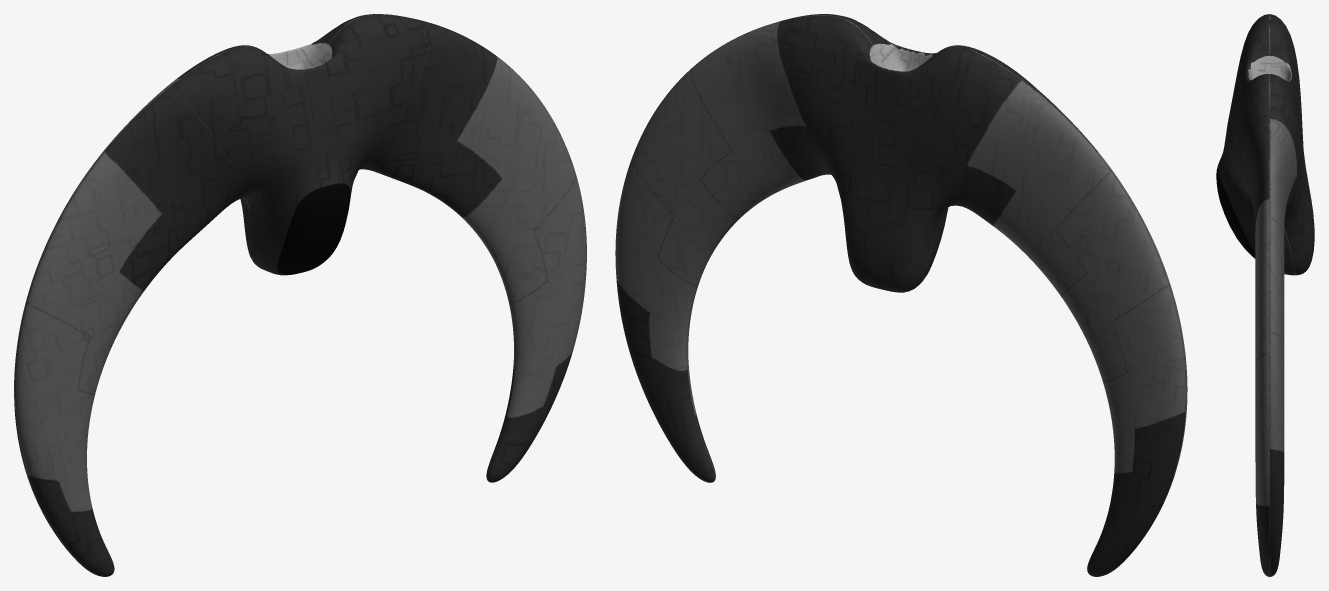
Rendered from shipshite.FBX.
3 renders of one model, left to right at view 1: azimuth 30°, elevation 25°; view 2: azimuth 150°, elevation 25°; view 3: azimuth 270°, elevation 25°, orthographic. The views are drawn at different scales.
Visible parts, largest first — view 1: Circle_001_Circle_001; view 2: Circle_001_Circle_001; view 3: Circle_001_Circle_001.
Boxes of the visible parts, left/top/right/bottom form: Circle_001_Circle_001: left=14, top=14, right=586, bottom=576; Circle_001_Circle_001: left=615, top=14, right=1187, bottom=576; Circle_001_Circle_001: left=1216, top=14, right=1314, bottom=576.
Size of the model in its own units: 1.09 by 0.911 by 0.1839.
1 material, 1 textured.
